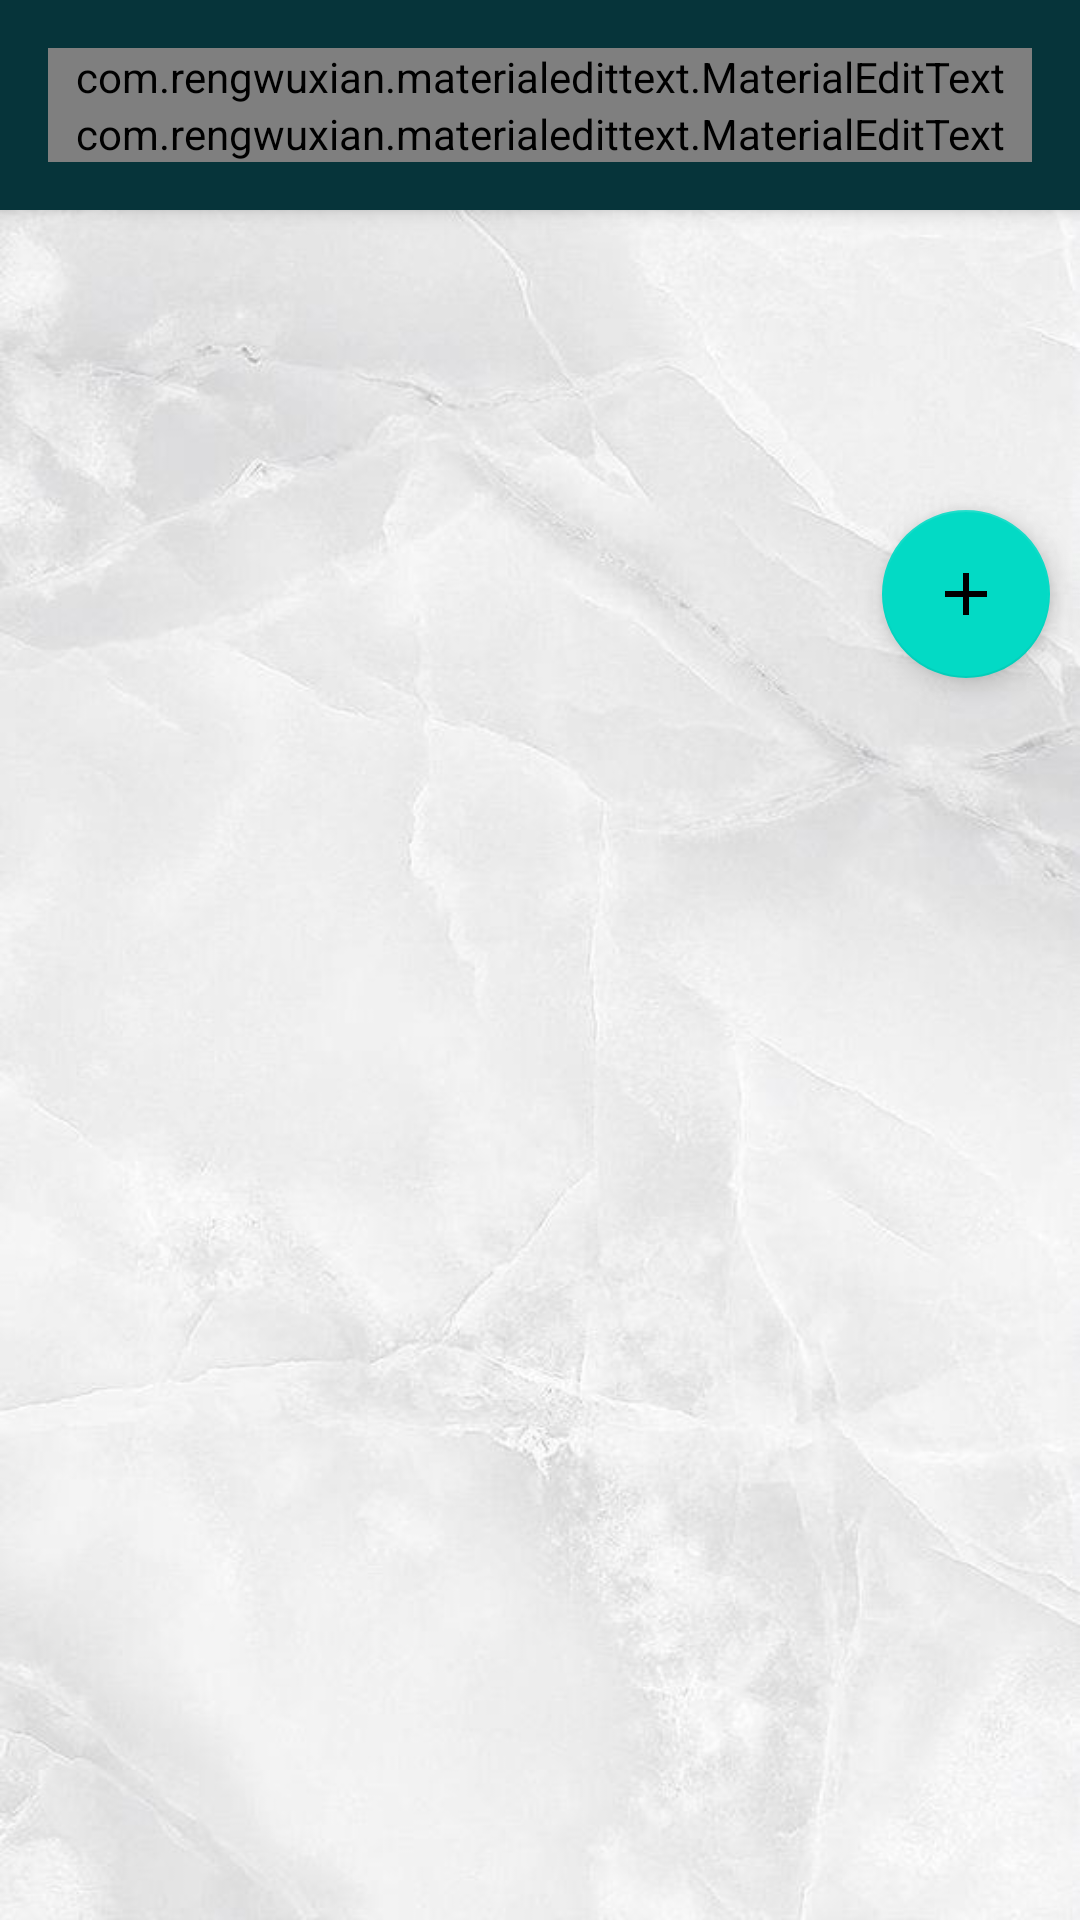

Icon click points for this 1080x1920 phone screenshot, format [x,y]:
add: [966,594]
